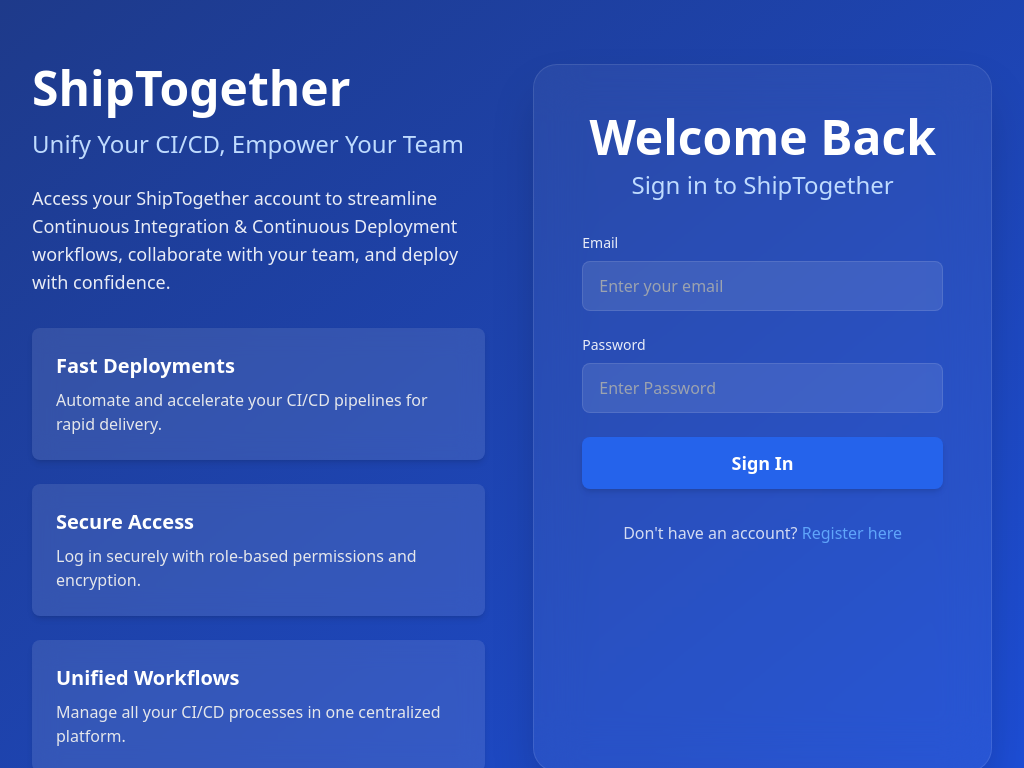
Test case: Login Component › Form Submission - Success › shows loading state during submission
In the field with placeholder "Enter your email": [763, 286] box [582, 261, 943, 311], type "test@example.com"
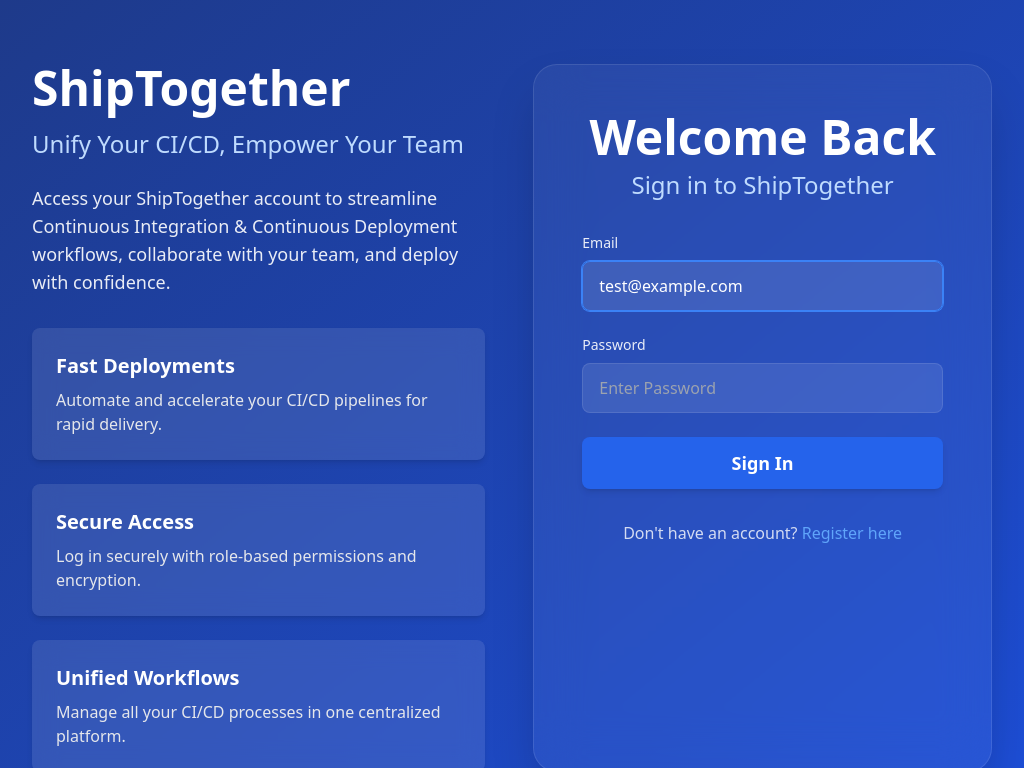
In the password field with placeholder "Enter Password": [763, 388] box [582, 363, 943, 413], type "password123"
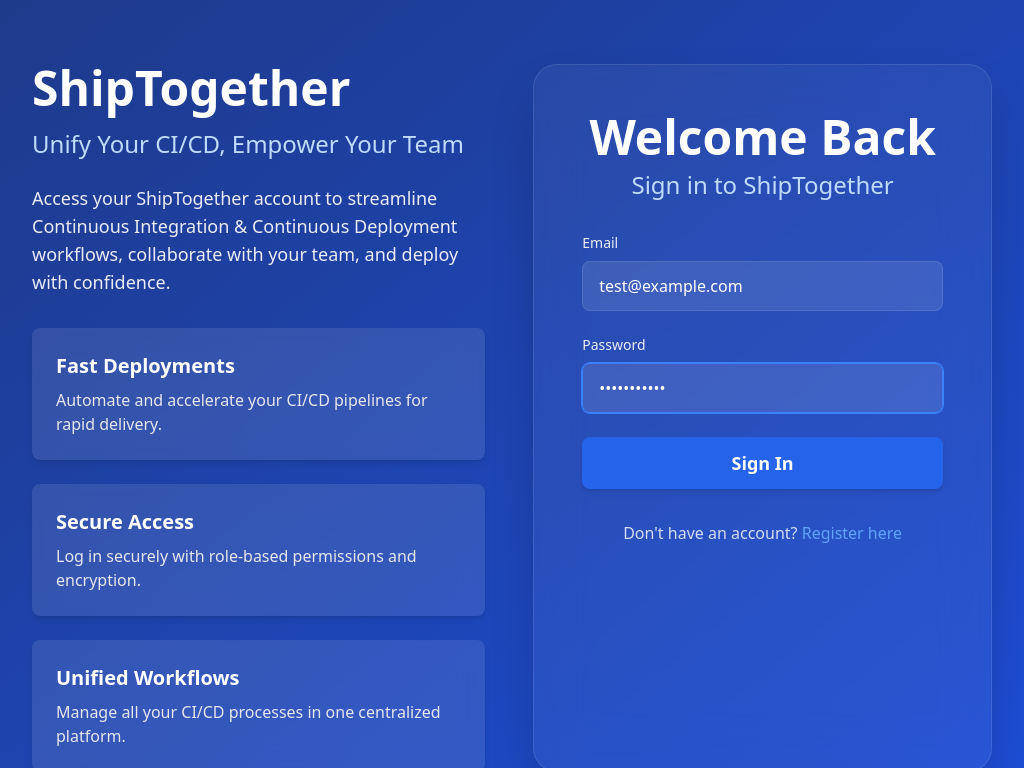
Click the button "Sign In": [763, 463] box [582, 437, 943, 489]
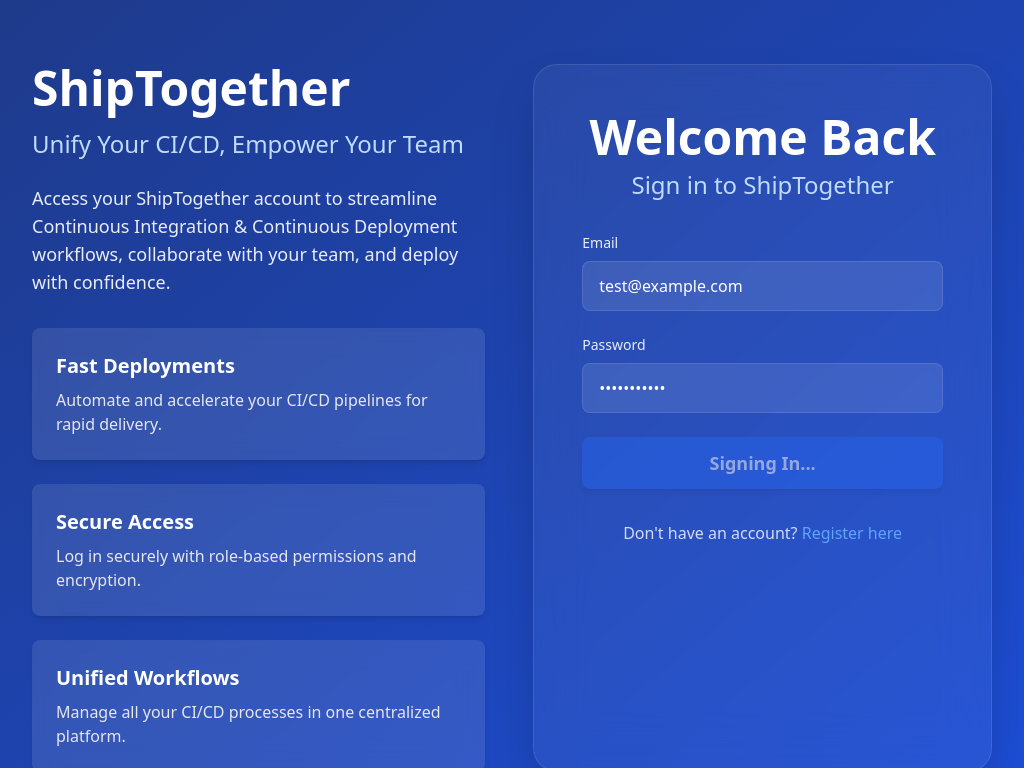
Expected: the button "Signing In..." is disabled, [582, 437, 943, 489]
